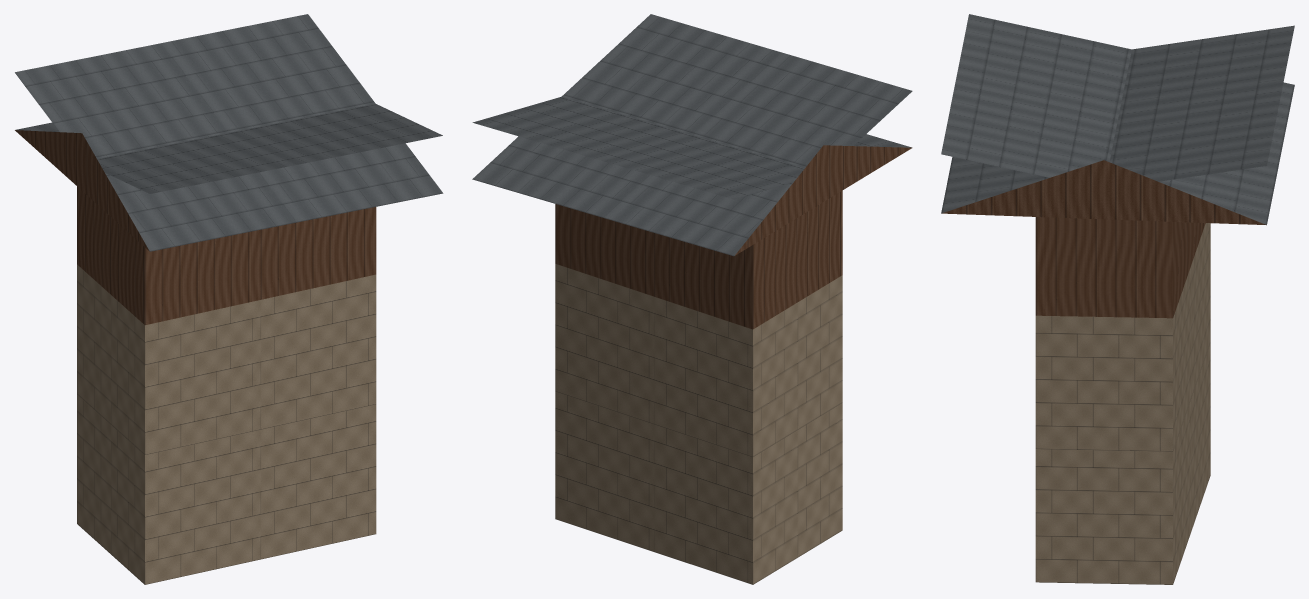
The model's file is bld_c43_32_260.gltf.
The picture shows the model from 3 angles, left to right: view 1: azimuth 30°, elevation 25°; view 2: azimuth 150°, elevation 25°; view 3: azimuth 270°, elevation 25°; orthographic projection. The views are drawn at different scales.
Parts seen in each view (by area): view 1: bld_c43_32_260; view 2: bld_c43_32_260; view 3: bld_c43_32_260.
Boxes of the visible parts, x1,y1,x2,y2 form: bld_c43_32_260: (15, 14, 443, 584); bld_c43_32_260: (472, 14, 912, 584); bld_c43_32_260: (941, 14, 1294, 584).
Size of the model in its own units: 5.5 by 7.4 by 5.41.
4 materials, 4 textured.
